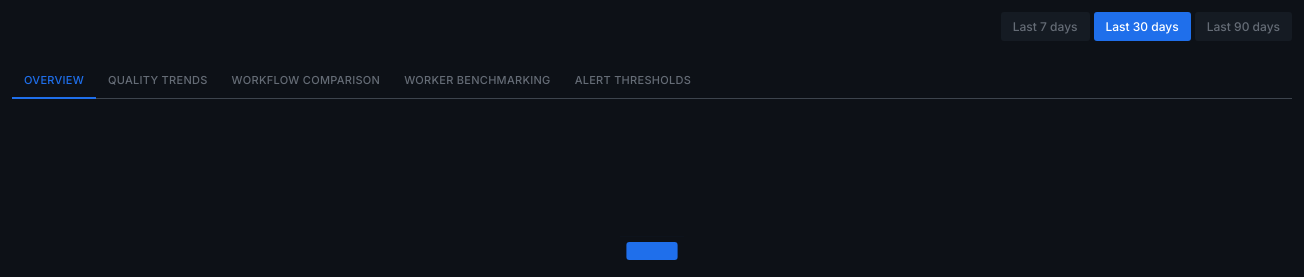
Test: PerformanceDashboard › switches to Alert Thresholds tab
Click the tab "Alert Thresholds".
click(633, 82)  # box x1=563 y1=65 x2=703 y2=98
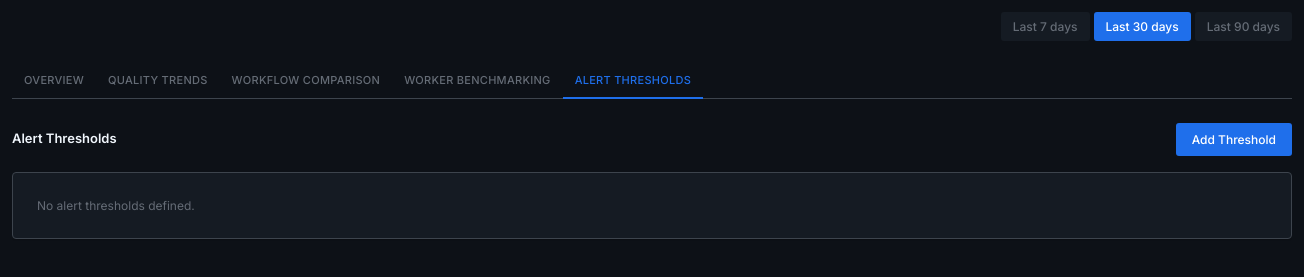
Expected: the button "Add Threshold" is shown, x1=1176 y1=122 x2=1292 y2=156
